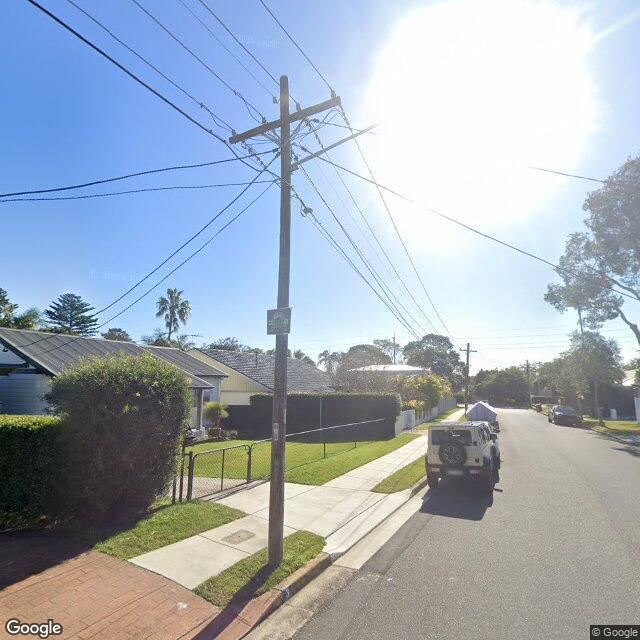crossarm: (228, 96, 342, 145), (459, 349, 478, 352)
timber-pole: (267, 74, 292, 566), (464, 342, 471, 413), (526, 360, 532, 409), (393, 332, 396, 363)
